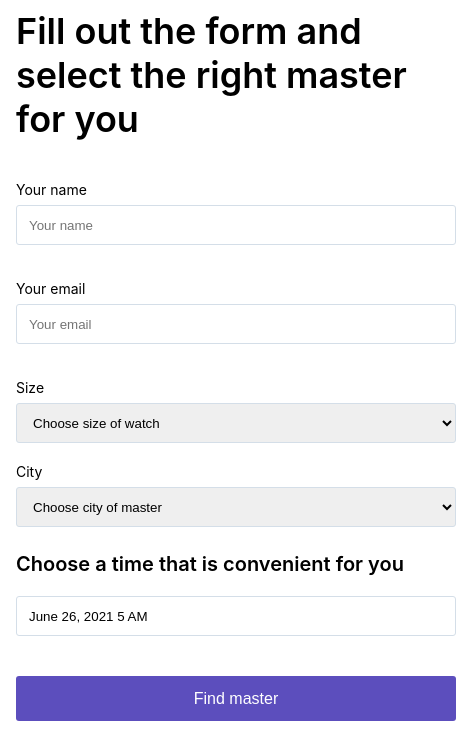
Test: Validation form › Input Email - Needs to be an email!
This screenshot has width=473, height=738.
Step 1. Type "atfff" into the field with placeholder "Your email" → (236,324), box x1=16 y1=304 x2=456 y2=344
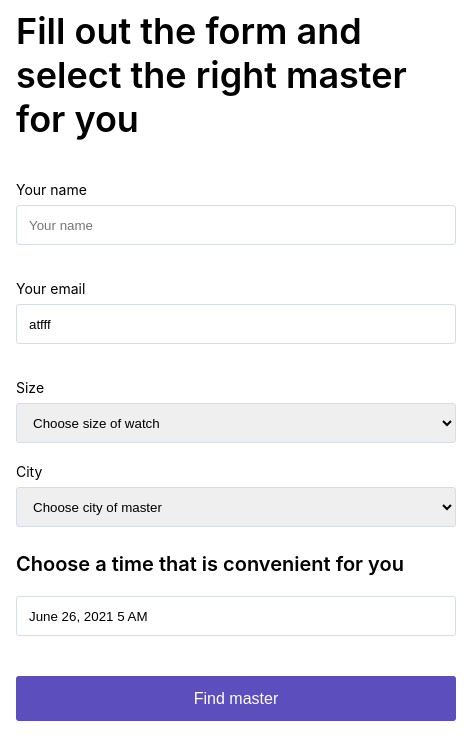
Step 2. Leave the field with placeholder "Your email", box x1=16 y1=304 x2=456 y2=344
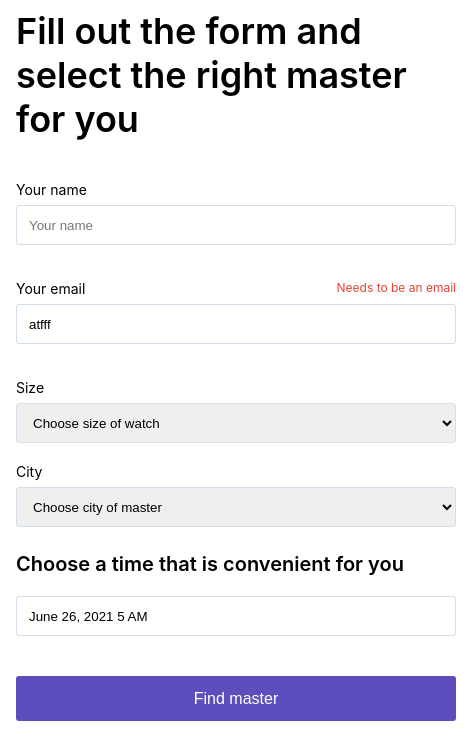
Now the text "Needs to be an email" is shown, box x1=336 y1=280 x2=456 y2=297
